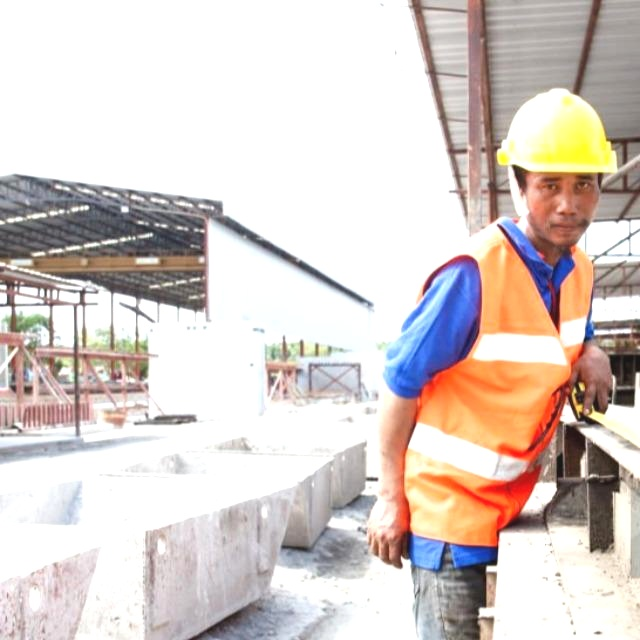Con_Chaleco: (394, 221, 596, 543)
